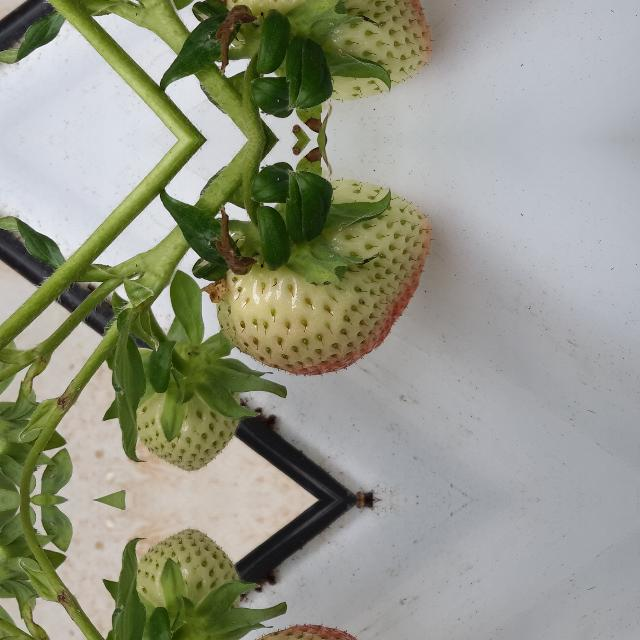Health_25: (216, 177, 434, 377), (216, 0, 434, 103), (133, 361, 240, 475), (133, 525, 240, 639)
